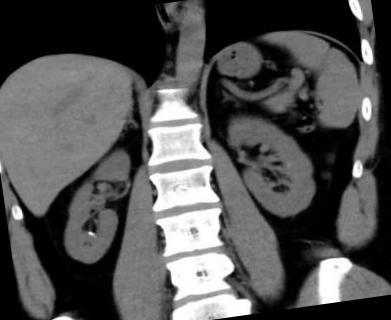Tas_Var: (88, 232, 94, 236), (87, 230, 92, 234)
